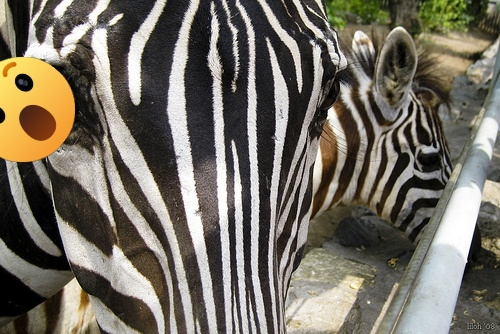wow: (0, 57, 75, 162)
